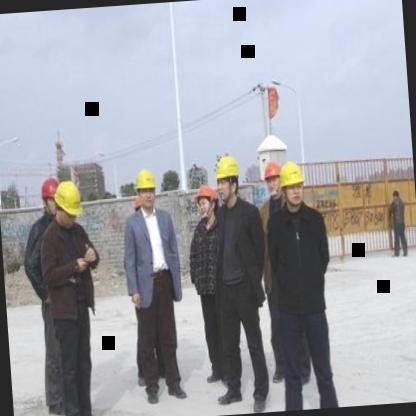helmet: (50, 178, 86, 228), (214, 152, 244, 204), (278, 160, 309, 209), (134, 164, 160, 212), (193, 180, 220, 224), (38, 174, 60, 218), (260, 158, 284, 198)
